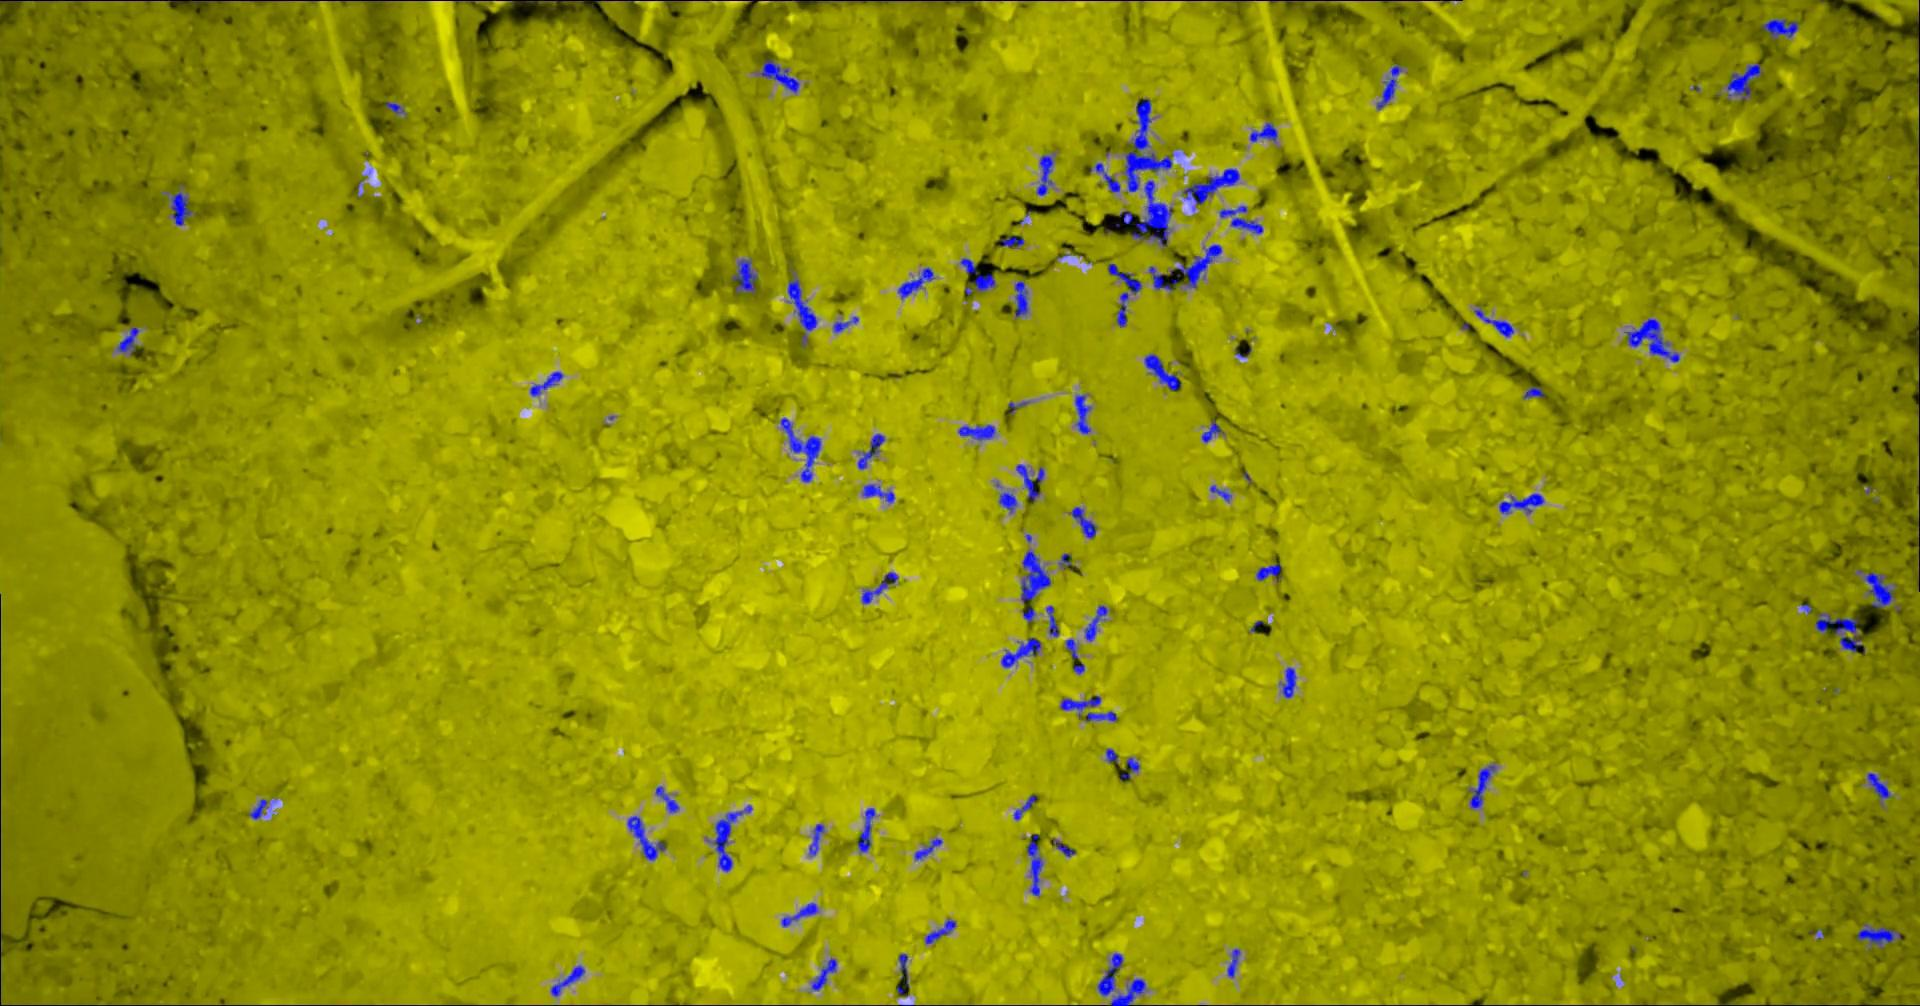ant: (780, 417, 822, 481), (1131, 180, 1171, 246), (712, 805, 750, 871), (1624, 318, 1679, 362), (1182, 168, 1239, 205), (1176, 244, 1222, 287), (787, 278, 817, 345), (1815, 612, 1862, 652), (627, 815, 665, 860), (1020, 550, 1050, 602), (960, 257, 994, 295), (1144, 354, 1180, 390), (759, 58, 797, 91), (1727, 64, 1760, 100), (897, 267, 935, 298), (1219, 205, 1262, 232), (1001, 636, 1040, 667), (1468, 765, 1495, 808), (861, 572, 897, 603), (1474, 307, 1512, 337), (1015, 464, 1044, 502), (1377, 64, 1401, 109), (1097, 951, 1123, 995), (1864, 572, 1895, 607), (1857, 923, 1901, 948), (1107, 263, 1142, 293), (550, 965, 584, 996), (1026, 833, 1043, 895), (1109, 978, 1145, 1005), (1498, 493, 1543, 514), (857, 433, 884, 469), (731, 258, 757, 293), (1059, 695, 1100, 716), (781, 902, 817, 926), (530, 371, 563, 396), (1070, 506, 1096, 539), (1090, 163, 1119, 191), (1084, 605, 1107, 640), (856, 807, 874, 852), (1761, 18, 1798, 39), (811, 958, 836, 989), (924, 918, 955, 942), (1035, 155, 1053, 196), (1148, 265, 1177, 290), (170, 191, 190, 225), (1865, 772, 1890, 798), (1013, 794, 1037, 819), (116, 326, 138, 353), (914, 837, 942, 859), (1074, 394, 1090, 433), (957, 424, 996, 439), (655, 786, 678, 812), (862, 484, 894, 502), (1250, 122, 1277, 141), (895, 953, 908, 995), (808, 823, 824, 855), (1015, 279, 1029, 316), (1201, 420, 1223, 442), (1281, 667, 1297, 697), (1255, 564, 1281, 580), (1051, 838, 1076, 856), (832, 316, 858, 332), (1116, 292, 1128, 326), (998, 492, 1017, 512), (248, 798, 265, 819), (1227, 948, 1239, 977), (1046, 605, 1058, 636), (1209, 484, 1230, 500), (1084, 711, 1117, 721), (997, 235, 1023, 246), (1523, 386, 1544, 398), (383, 102, 403, 113), (1065, 639, 1077, 658), (1117, 210, 1131, 224), (1022, 607, 1035, 622), (1105, 748, 1117, 763), (1058, 553, 1070, 567), (1126, 757, 1139, 771), (524, 0, 583, 1)
